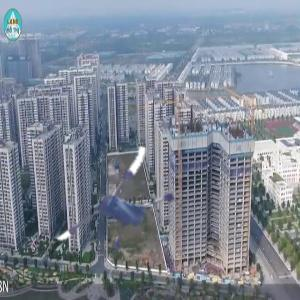drone: (60, 130, 198, 268)
